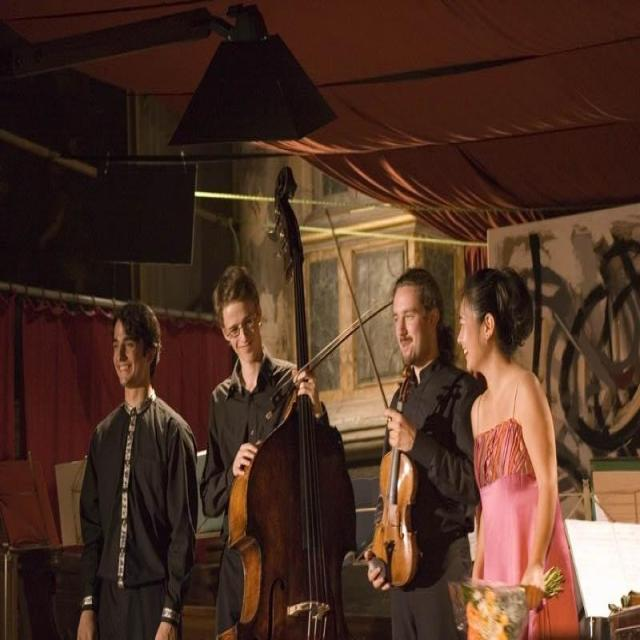violin: (372, 361, 424, 583)
